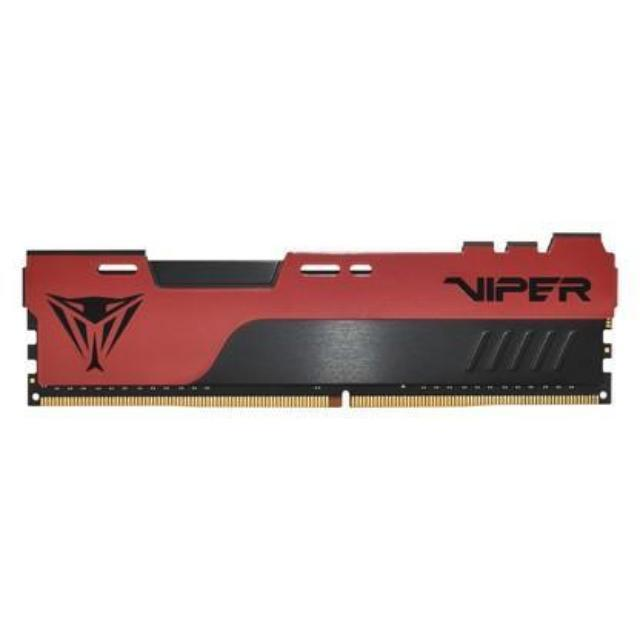RAM: (16, 228, 616, 414)
